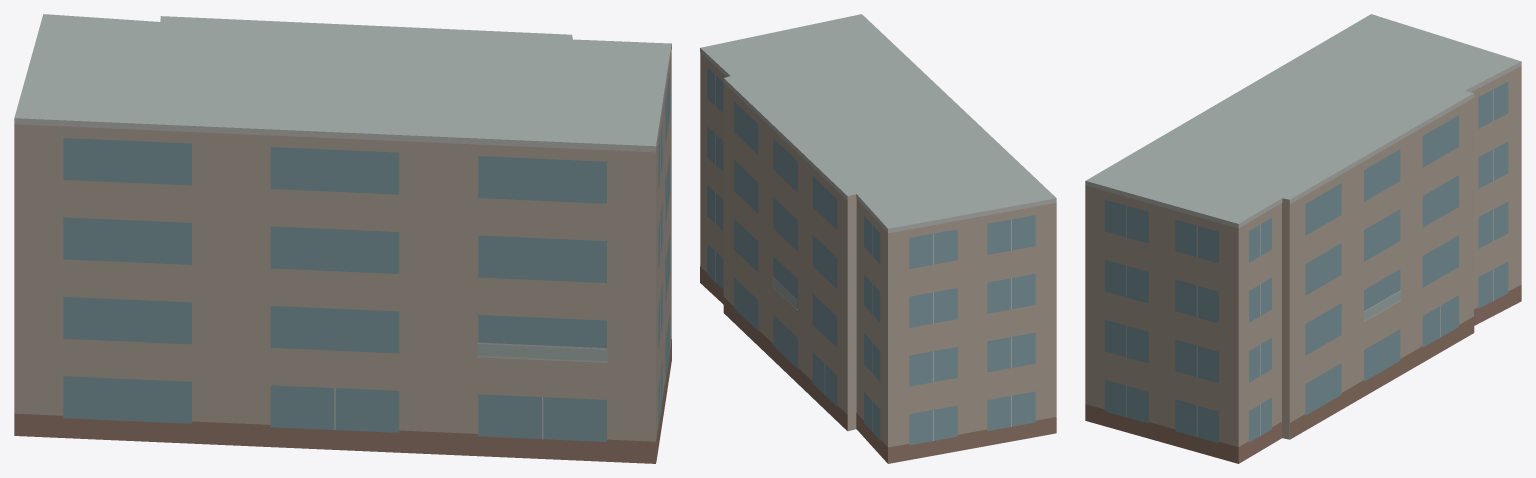
Rendered from survey-upis-32669901.glb.
3 renders of one model, left to right at view 1: azimuth 30°, elevation 25°; view 2: azimuth 150°, elevation 25°; view 3: azimuth 270°, elevation 25°, orthographic. The views are drawn at different scales.
Parts seen in each view (by area): view 1: survey-upis-32669901.tmp; view 2: survey-upis-32669901.tmp; view 3: survey-upis-32669901.tmp.
Part boxes in pixels (x1=…): survey-upis-32669901.tmp: x1=14, y1=14, x2=671, y2=463; survey-upis-32669901.tmp: x1=700, y1=14, x2=1056, y2=463; survey-upis-32669901.tmp: x1=1085, y1=14, x2=1521, y2=463.
Bounding box in the file's own units: 23.94 × 12.75 × 21.01.
